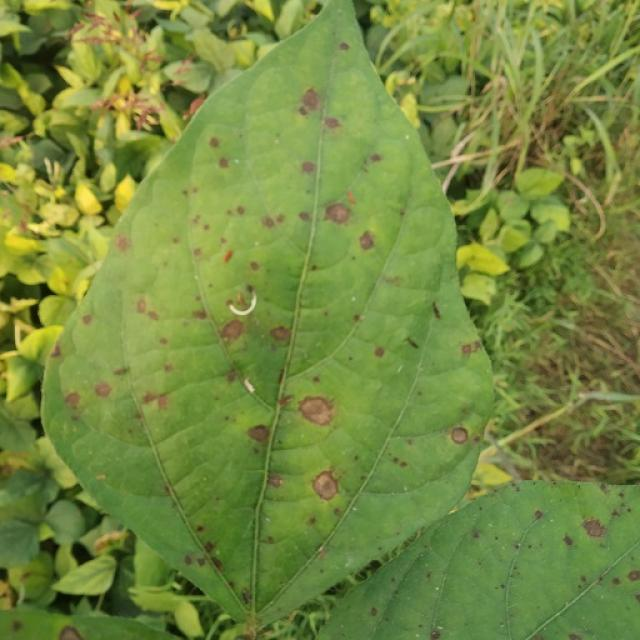Anthracnose: (298, 395, 334, 426), (92, 530, 128, 555), (312, 471, 341, 502), (141, 390, 171, 412), (324, 203, 352, 225), (299, 87, 321, 114), (220, 319, 245, 341), (581, 518, 606, 539), (247, 424, 270, 444), (241, 620, 262, 640), (59, 625, 84, 640), (269, 325, 291, 342), (450, 427, 469, 445), (359, 231, 375, 252), (94, 381, 112, 398), (461, 341, 481, 355), (64, 392, 80, 409), (115, 235, 129, 253), (267, 474, 283, 488), (261, 215, 276, 229), (301, 161, 316, 174), (562, 533, 575, 548), (210, 556, 223, 571), (227, 368, 239, 383), (136, 298, 147, 313), (50, 343, 61, 358), (203, 541, 216, 553), (11, 620, 23, 633), (432, 302, 441, 319), (242, 588, 252, 603), (368, 153, 382, 163), (374, 346, 385, 358), (218, 156, 229, 168), (533, 509, 544, 521), (82, 314, 93, 326), (209, 137, 220, 148), (183, 554, 194, 565), (249, 261, 260, 271), (471, 528, 480, 539), (339, 42, 350, 51), (632, 570, 640, 582), (369, 607, 378, 617), (611, 577, 621, 586), (236, 205, 245, 215), (568, 635, 583, 640), (430, 634, 441, 640)
Blackgram: (42, 0, 492, 624)
